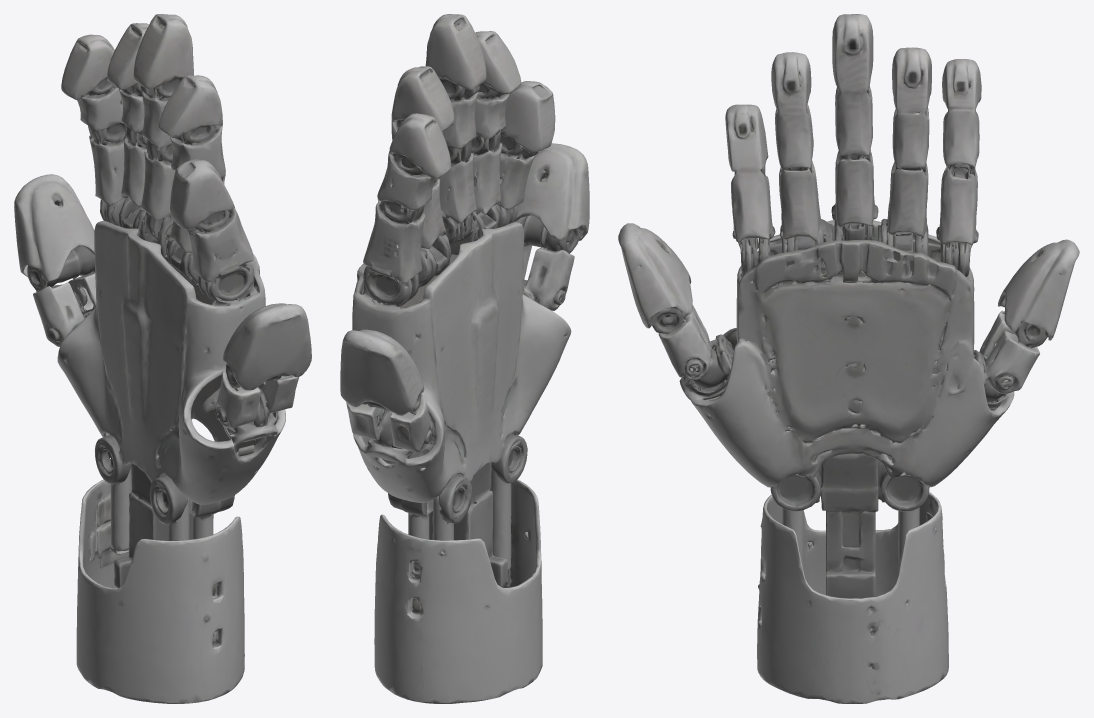
The model's file is robot.glb.
3 views of the same model, side by side, from view 1: azimuth 30°, elevation 25°; view 2: azimuth 150°, elevation 25°; view 3: azimuth 270°, elevation 25° (orthographic).
Parts seen in each view (by area): view 1: world; view 2: world; view 3: world.
Part boxes in pixels (x1,y1,x2,y2): world: (14,14,311,703); world: (340,14,589,703); world: (618,14,1079,703).
Bounding box in the file's own units: 0.2318 × 1 × 0.6383.
Materials: 1 (1 with a texture image).
